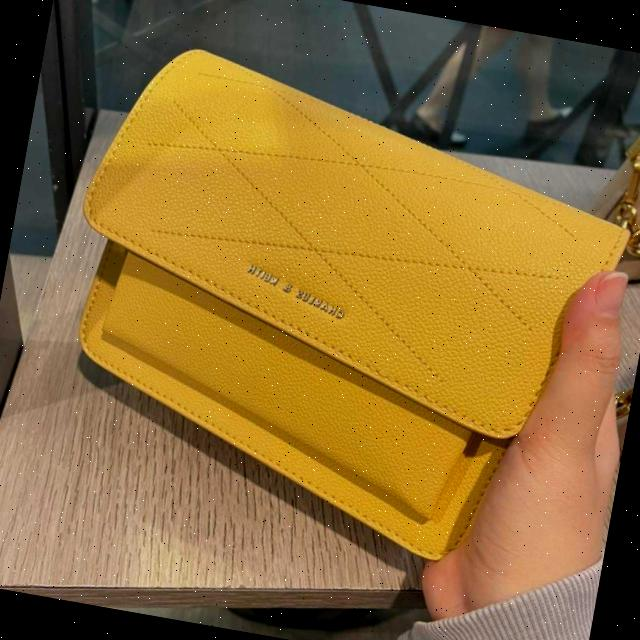handbag: (30, 31, 640, 582)
